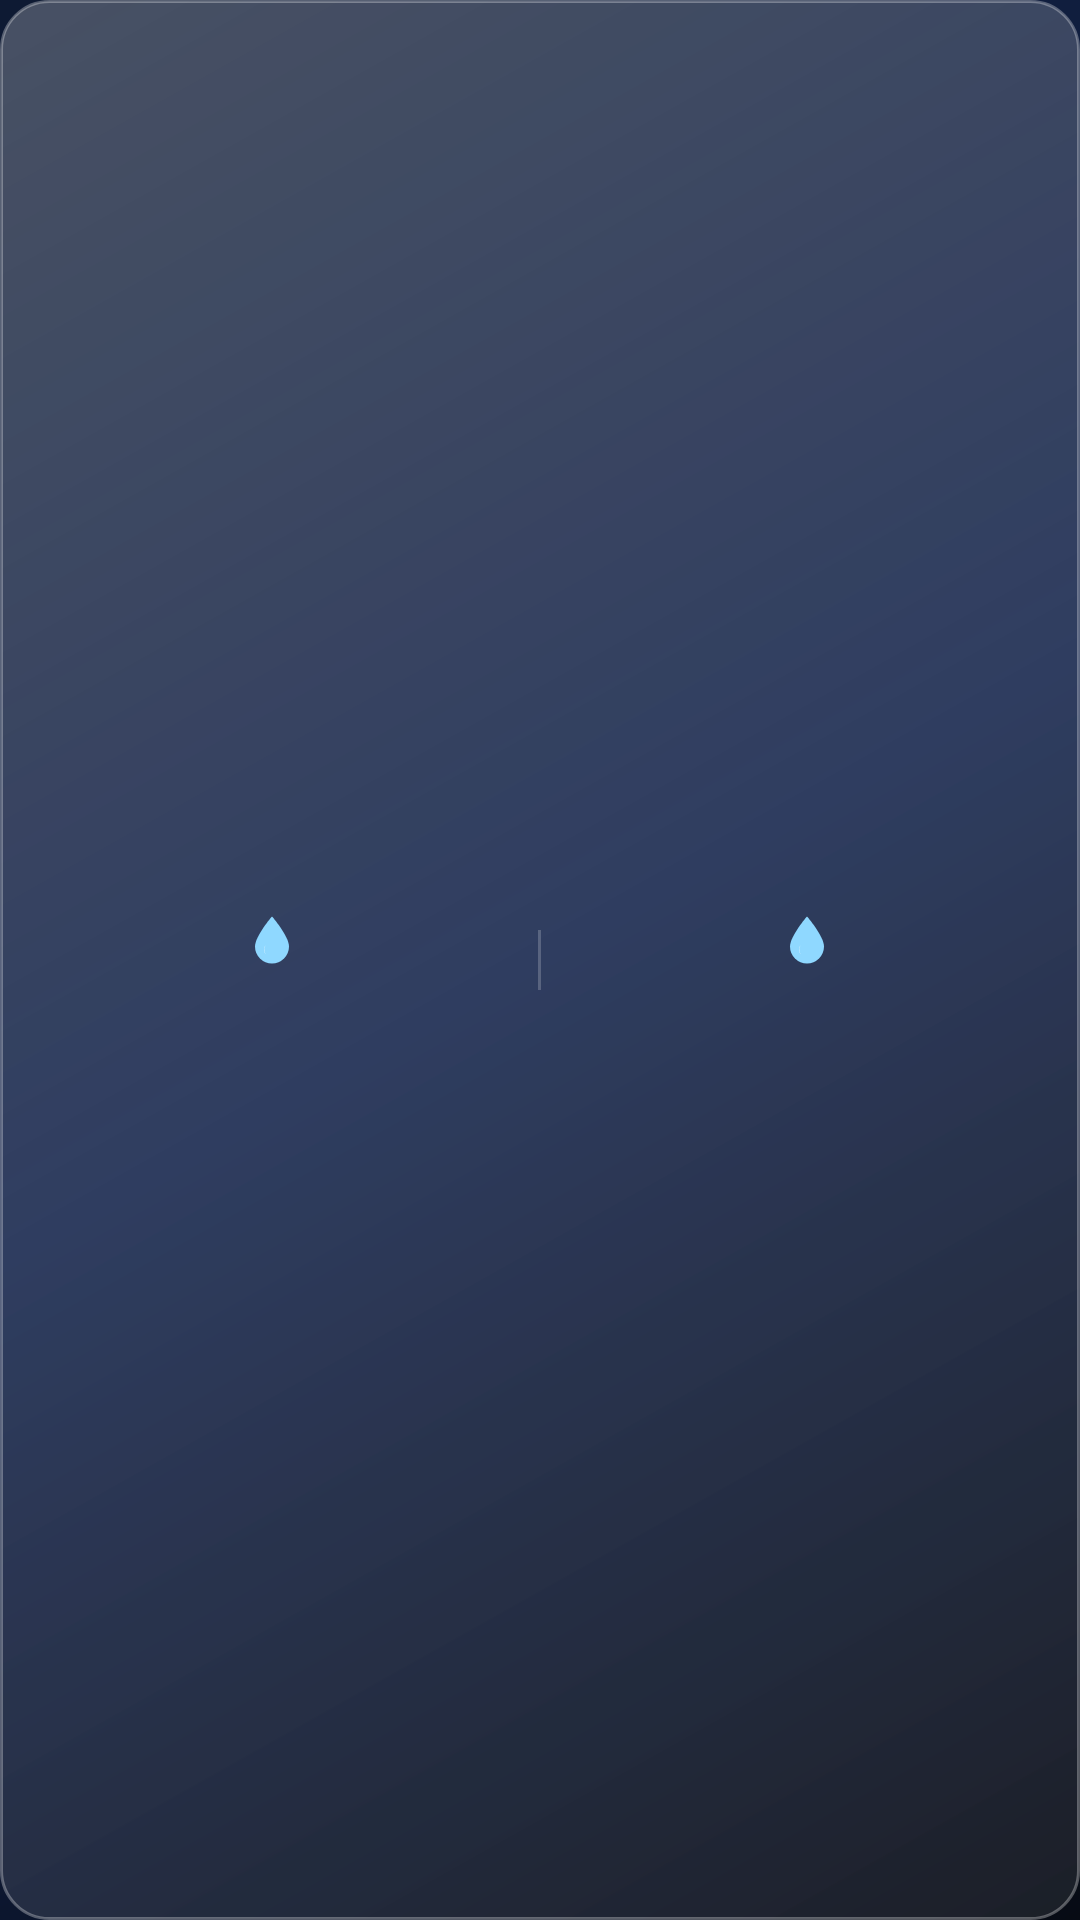

Point at icon controls on the screen. Image size 1080 × 1920, points as [x,y].
widget drop: [272,940], [807,940]
